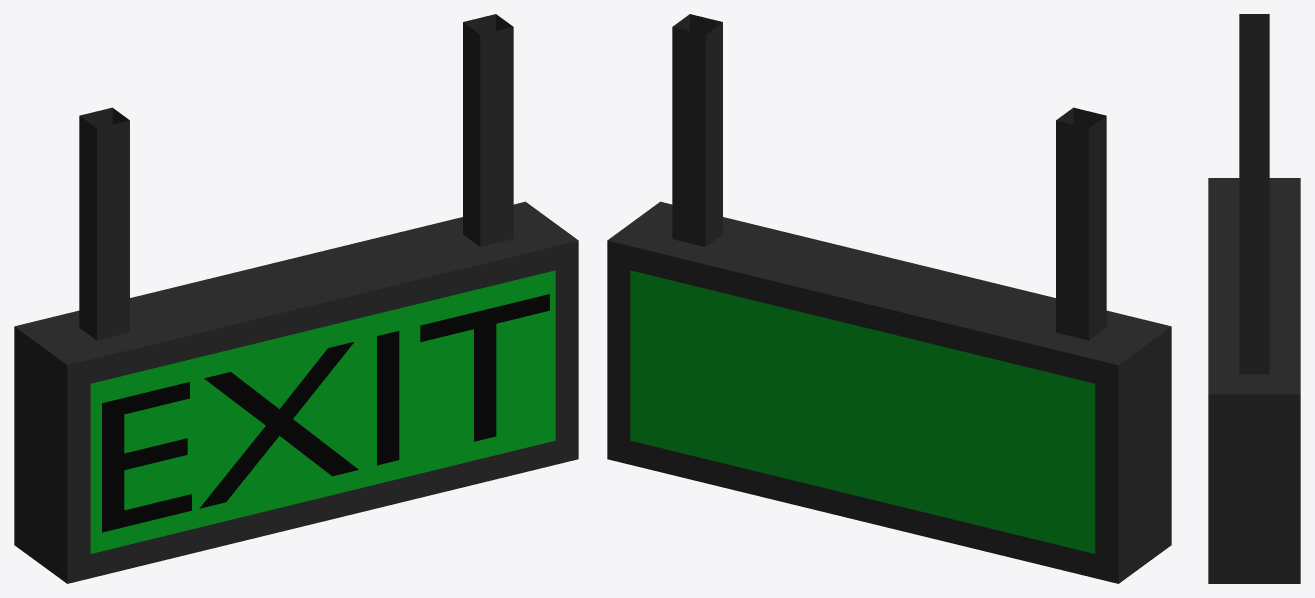
The model's file is exit.fbx.
3 renders of one model, left to right at view 1: azimuth 30°, elevation 25°; view 2: azimuth 150°, elevation 25°; view 3: azimuth 270°, elevation 25°, orthographic. The views are drawn at different scales.
Visible parts, largest first — view 1: Cube, Text; view 2: Cube; view 3: Cube.
Boxes of the visible parts, box(x1,y1,x2,y2) form: Cube: box(14, 14, 578, 583); Text: box(102, 294, 549, 532); Cube: box(607, 14, 1171, 583); Cube: box(1208, 14, 1300, 583).
Bounding box in the file's own units: 200 × 161 × 39.14.
